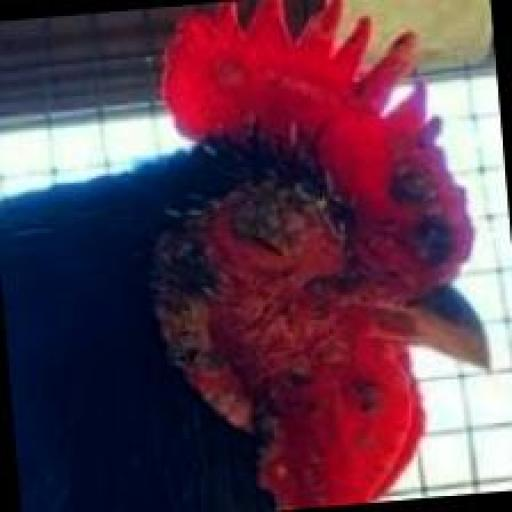disease: (200, 329, 415, 508), (352, 29, 480, 325), (203, 160, 328, 293)
